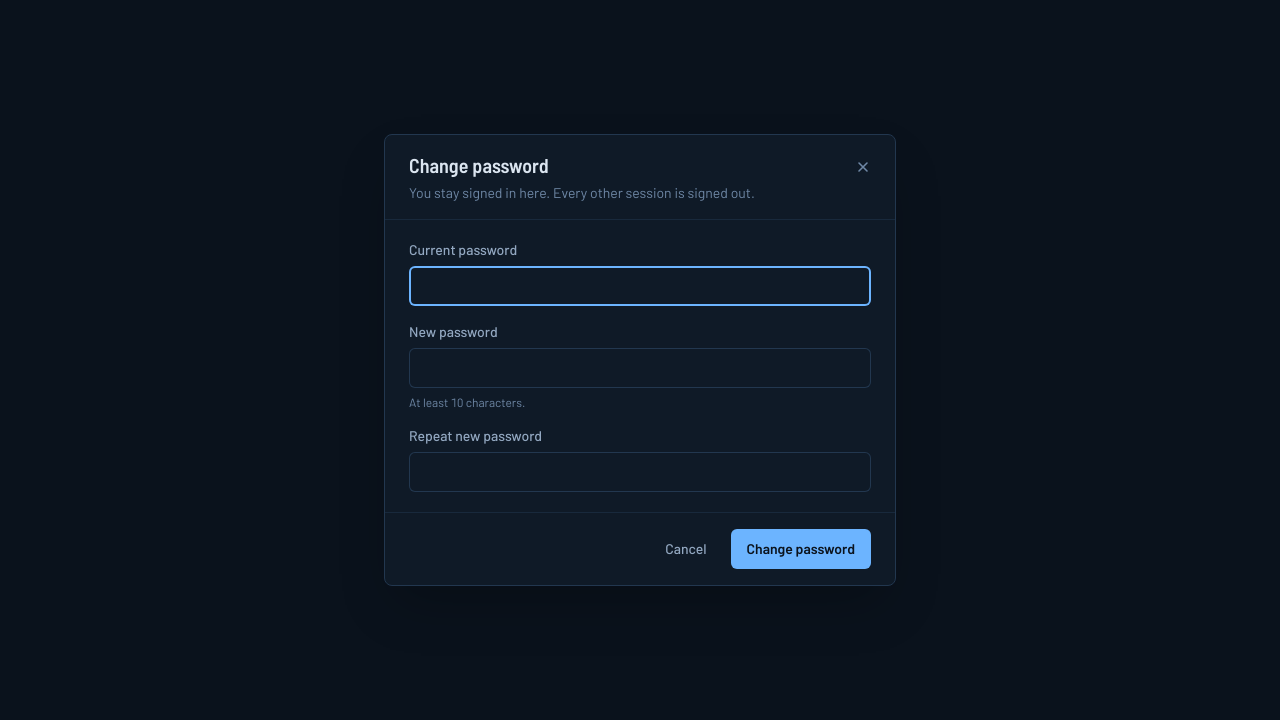
Test case: ChangePasswordDialog › shows the server's reason when it refuses
Type "wrong" into the password field labelled "Current password" at coordinates (640, 286), box [409,266,871,306]
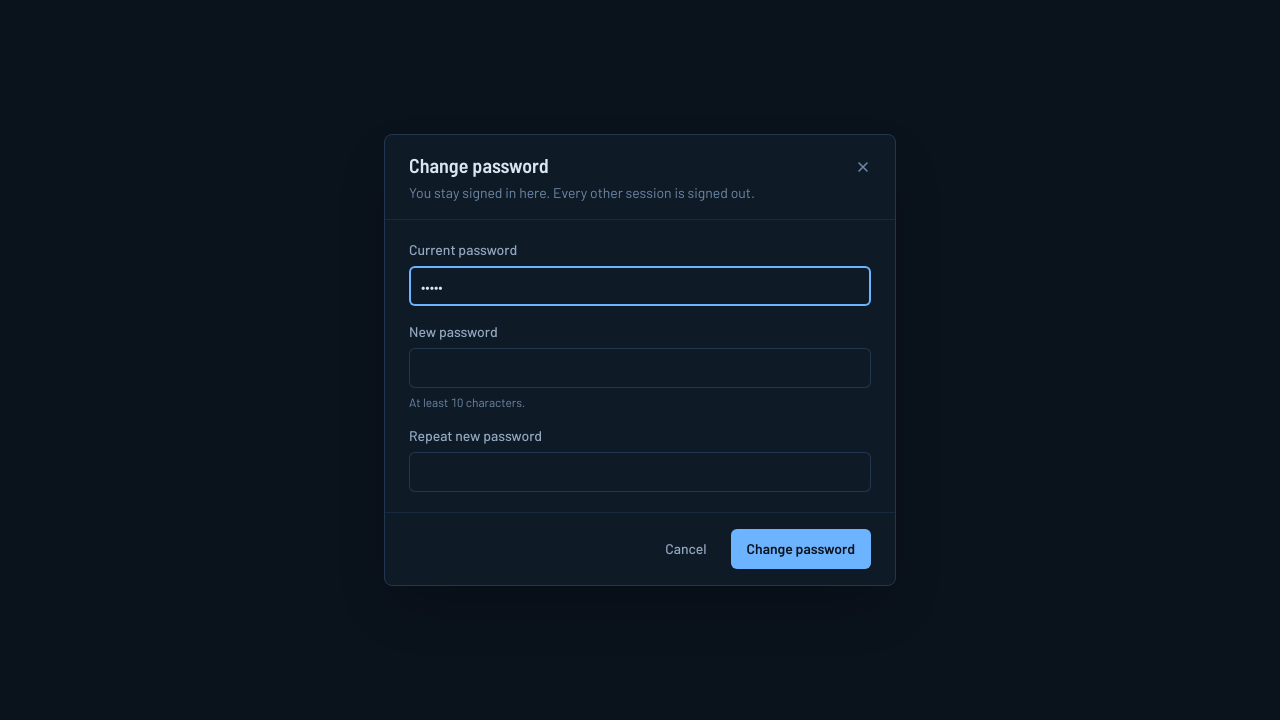
Type "much-longer-secret" into the password field labelled "New password" at coordinates (640, 368), box [409,348,871,388]
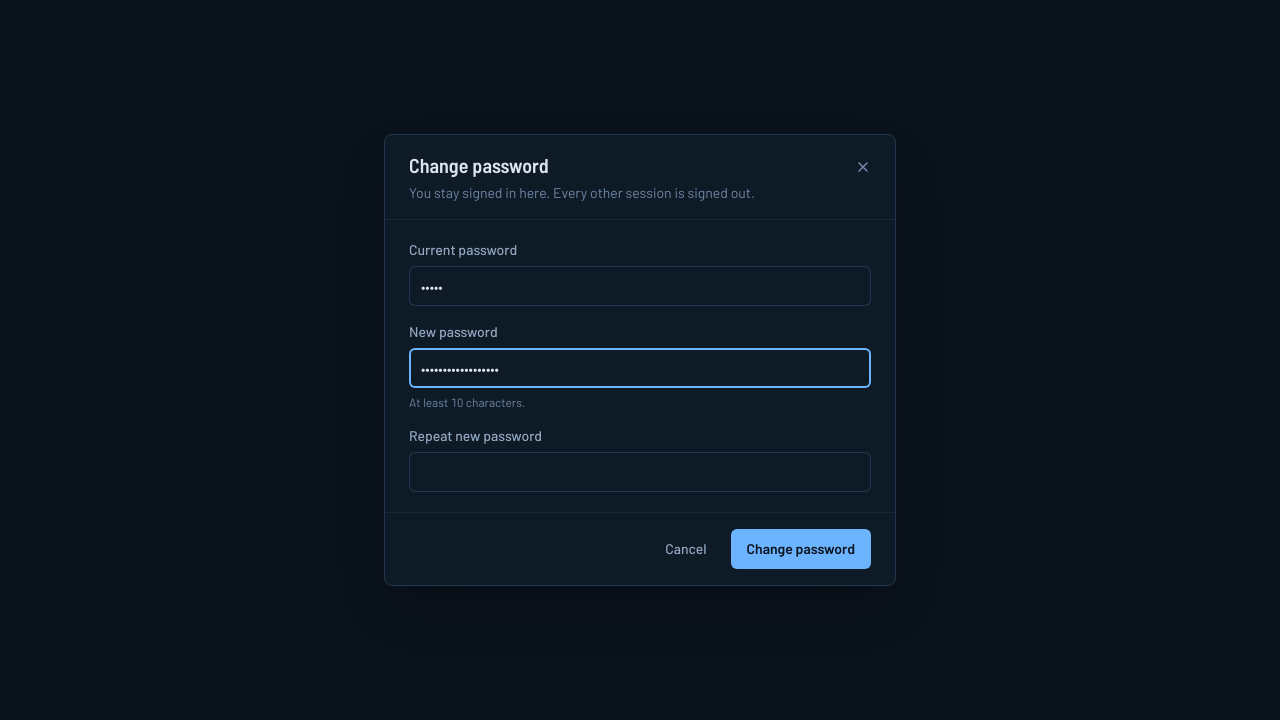
Type "much-longer-secret" into the password field labelled "Repeat new password" at coordinates (640, 472), box [409,452,871,492]
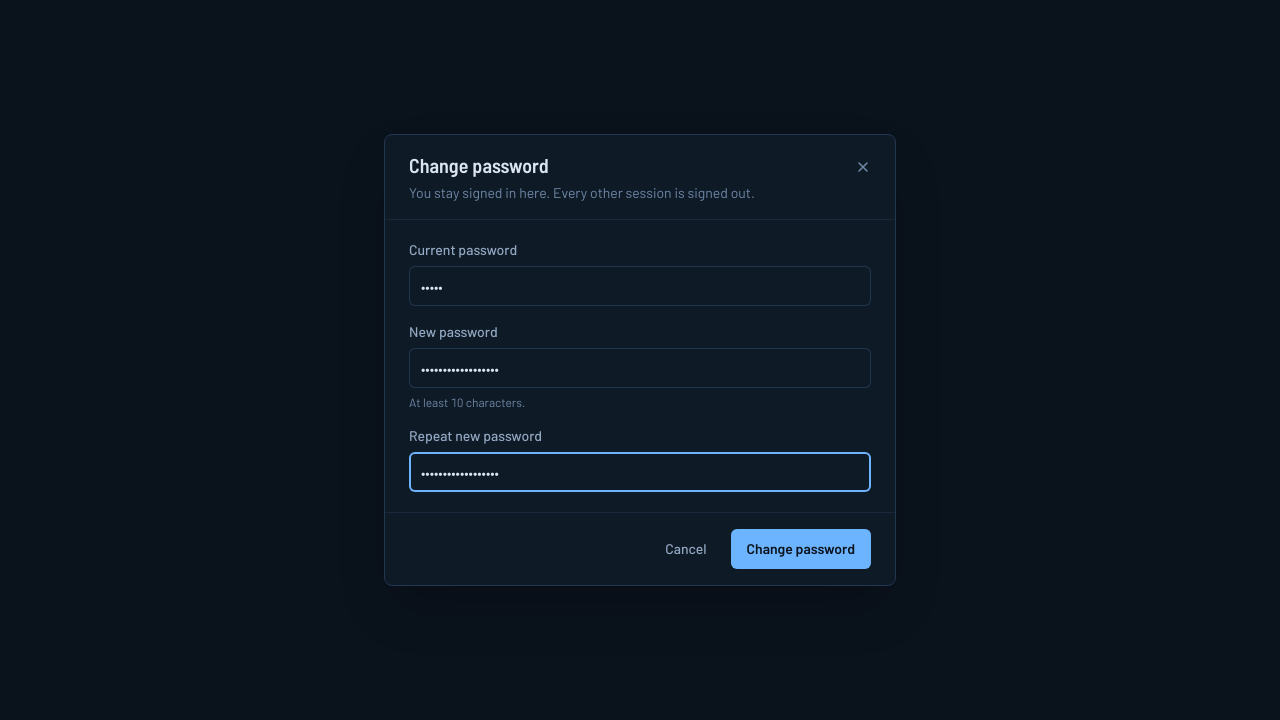
Click the button "Change password" at coordinates (801, 549), box [730,529,871,569]
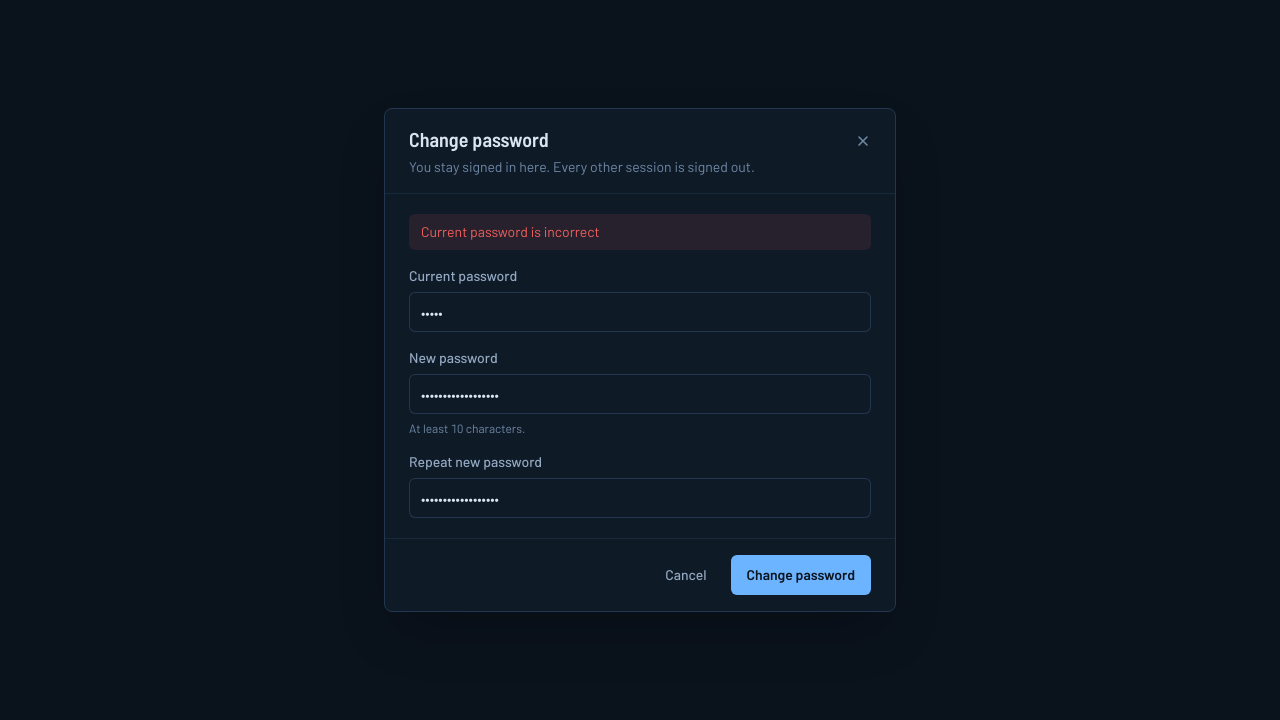
expect the message reads "Current password is incorrect": met, box [421,223,600,240]
